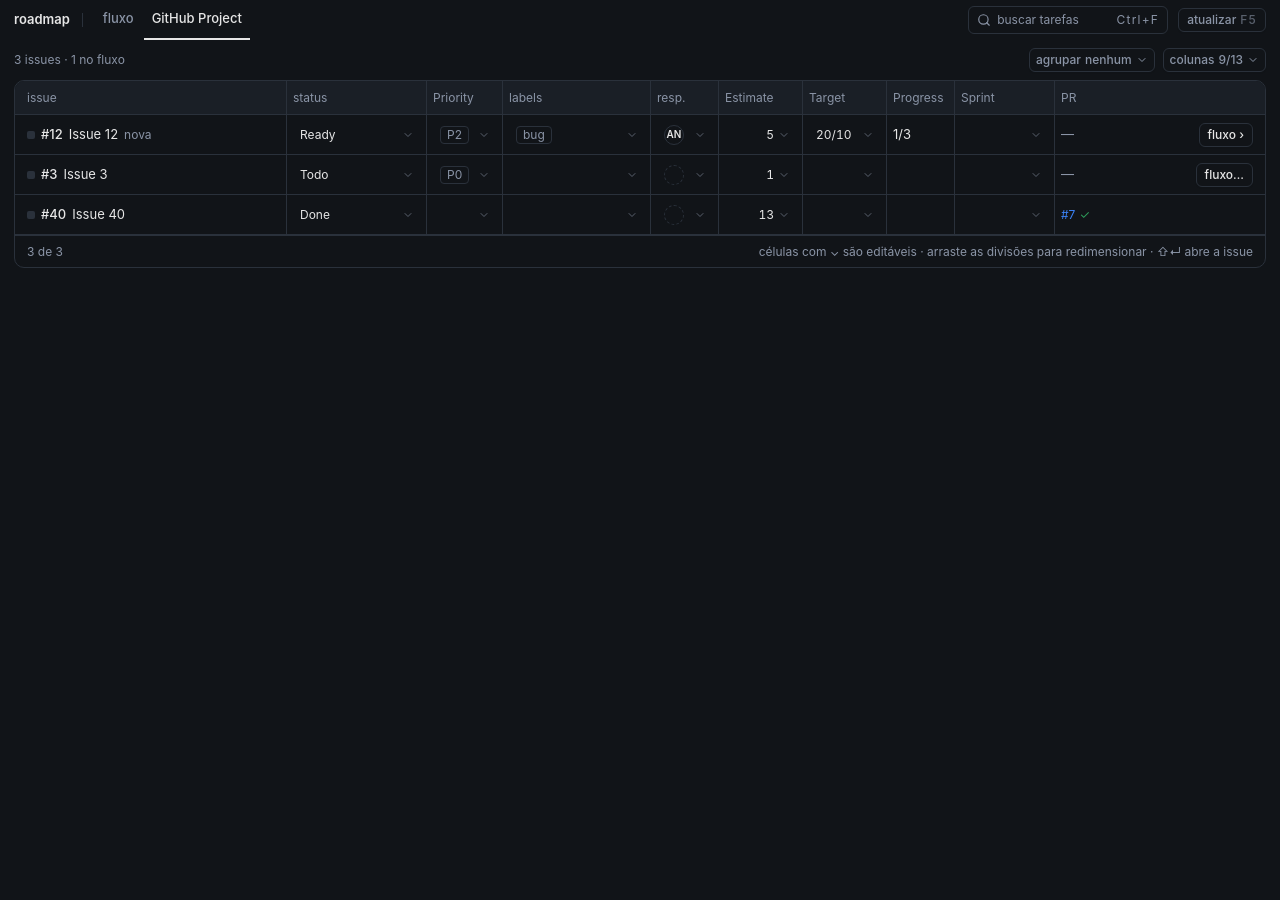
Scenario: a label toggled in the labels popover posts the whole new set to the fields route and the answer's row replaces the row (#60)
The width and height of the screenshot is (1280, 900).
expect the text "3 de 3" is shown: met, box [27, 244, 63, 260]
Click the button with aria-label "editar Labels" at (577, 134), box [509, 122, 645, 146]
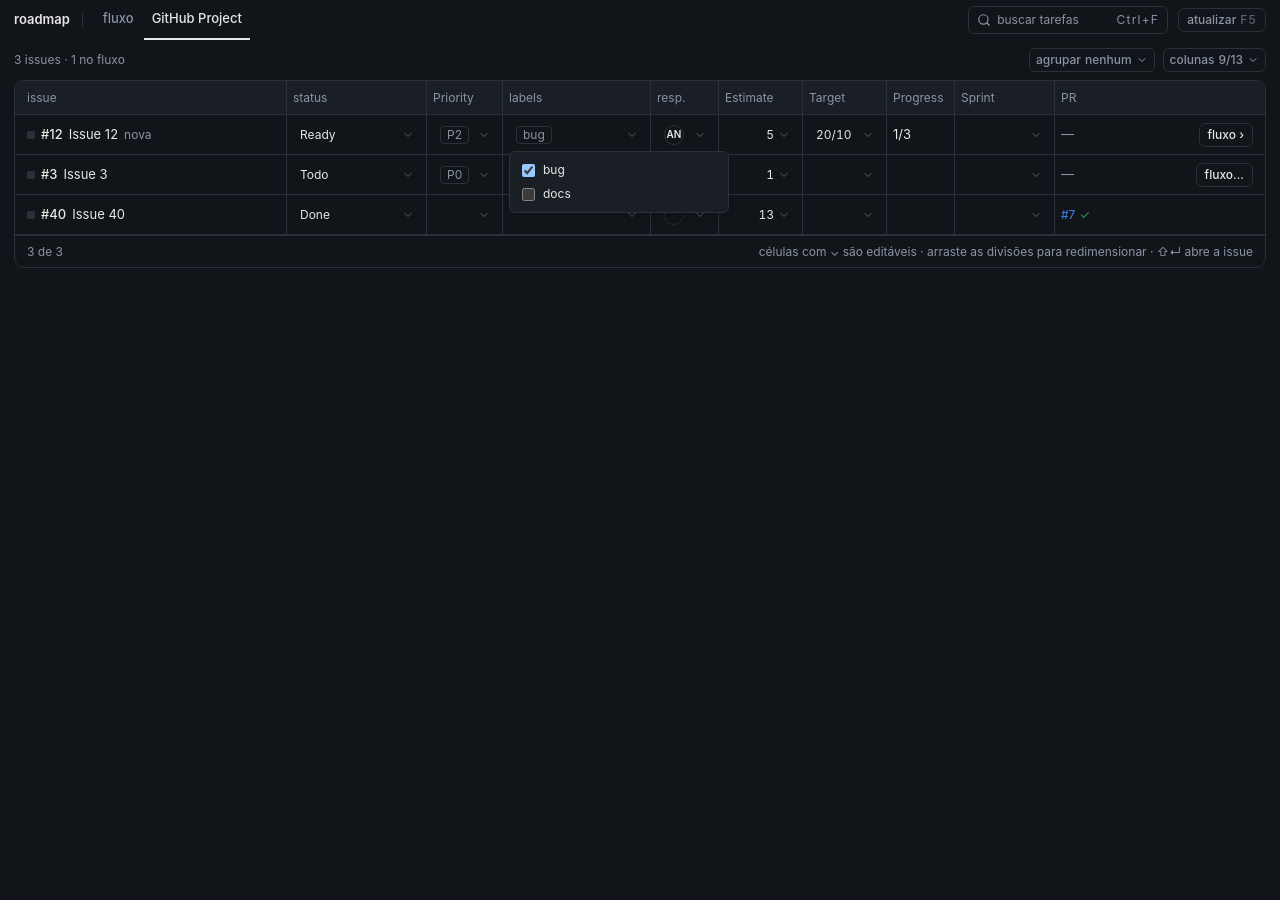
Click the checkbox labelled "docs" at (528, 194), box [522, 188, 535, 200]
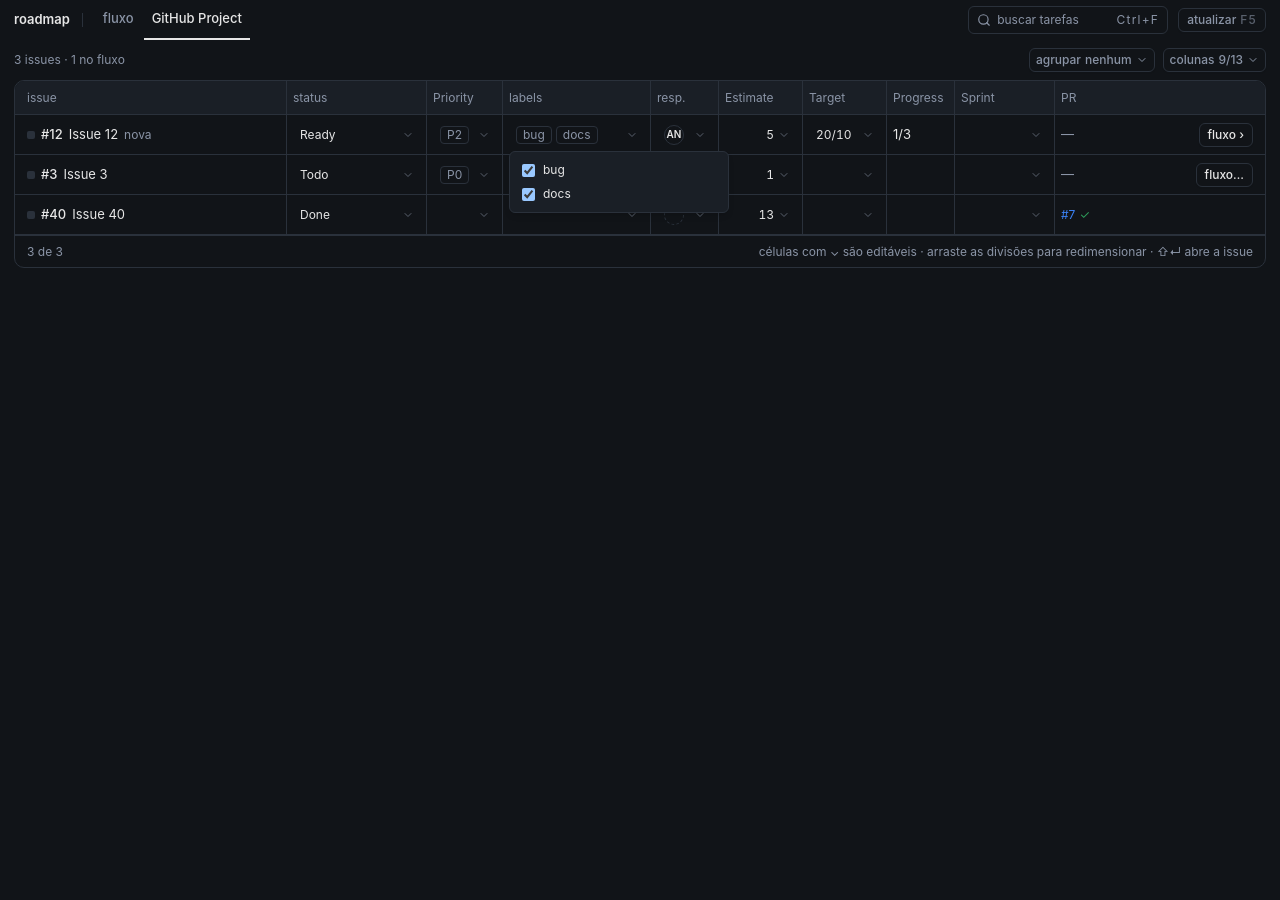
expect the text "docs" is shown: met, box [556, 126, 598, 144]
